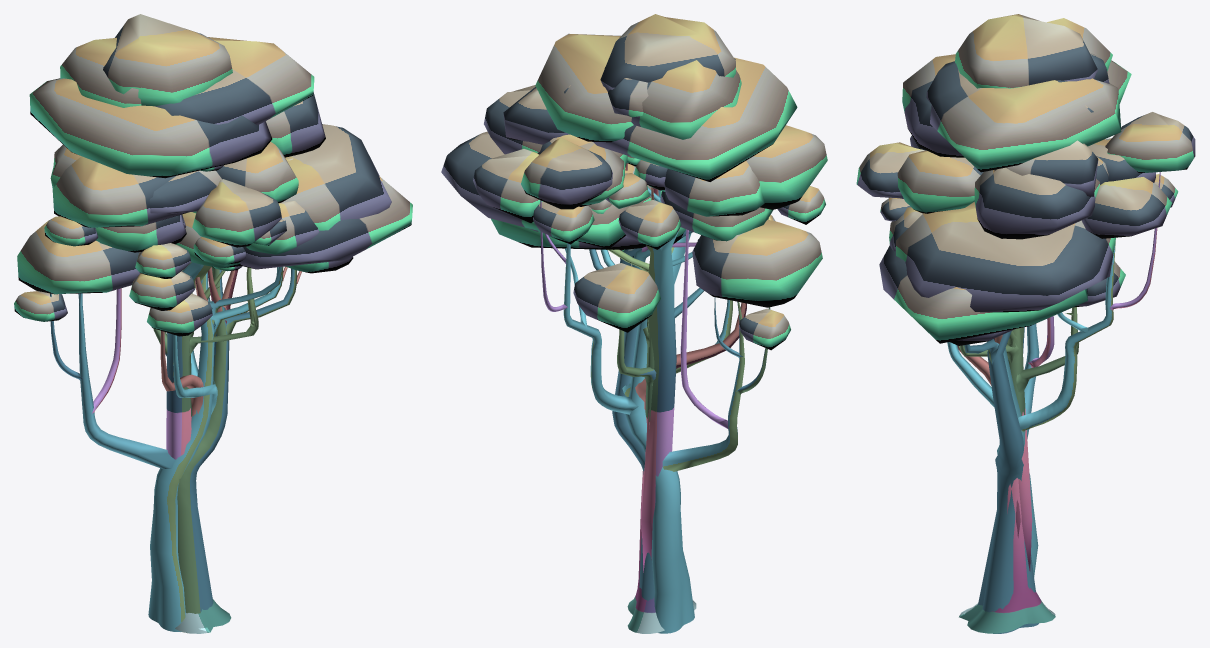
Rendered from Trees3.fbx.
3 views of the same model, side by side, from view 1: azimuth 30°, elevation 25°; view 2: azimuth 150°, elevation 25°; view 3: azimuth 270°, elevation 25° (orthographic). The views are drawn at different scales.
Parts seen in each view (by area): view 1: Tree1, Tree4, Tree2, Tree3; view 2: Tree4, Tree1, Tree2, Tree3; view 3: Tree4, Tree1, Tree2, Tree3.
Boxes of the visible parts, x1,y1,x2,y2 form: Tree1: [14, 14, 412, 633]; Tree4: [44, 37, 391, 631]; Tree2: [95, 157, 293, 633]; Tree3: [166, 179, 286, 459]; Tree4: [441, 33, 827, 633]; Tree1: [484, 14, 822, 600]; Tree2: [537, 134, 773, 633]; Tree3: [579, 78, 691, 572]; Tree4: [889, 18, 1195, 590]; Tree1: [879, 14, 1131, 633]; Tree2: [910, 135, 1125, 633]; Tree3: [856, 53, 1155, 571].
Bounding box in the file's own units: 772 × 1274 × 664.
1 material, 1 textured.
